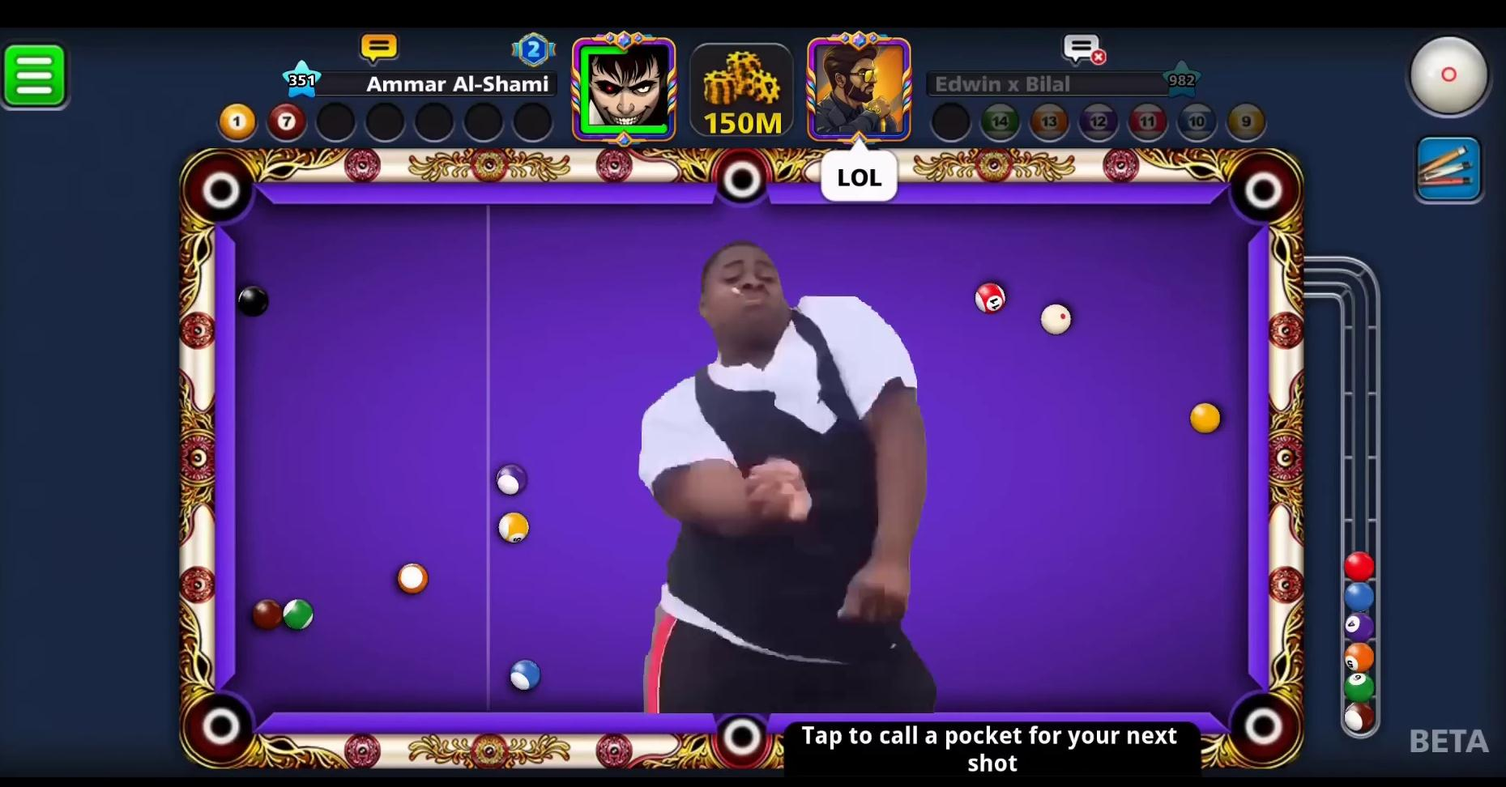Ball: (497, 653, 546, 697), (274, 594, 320, 640), (226, 283, 278, 321), (391, 561, 437, 602), (1185, 398, 1226, 436), (245, 596, 287, 633), (490, 460, 531, 497), (494, 510, 535, 547), (970, 280, 1009, 317)
Hole: (171, 681, 270, 775), (1218, 679, 1306, 775), (176, 139, 266, 232), (1222, 142, 1302, 232), (703, 143, 781, 221)
Play_Area: (231, 204, 1256, 709)
Spin: (1402, 26, 1504, 130)
White: (1038, 302, 1074, 337)
